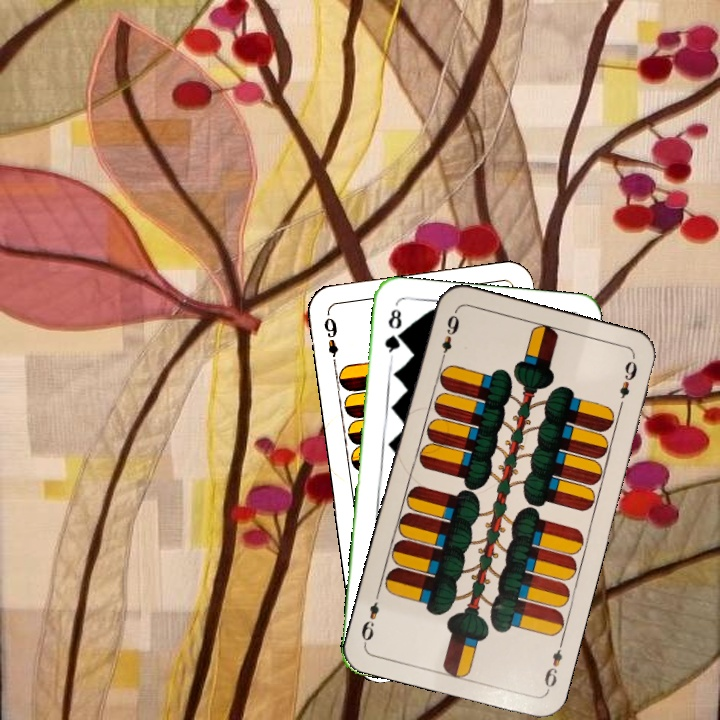E9: (436, 308, 462, 366), (540, 636, 566, 694), (320, 313, 341, 370)
G8: (380, 305, 404, 361)
